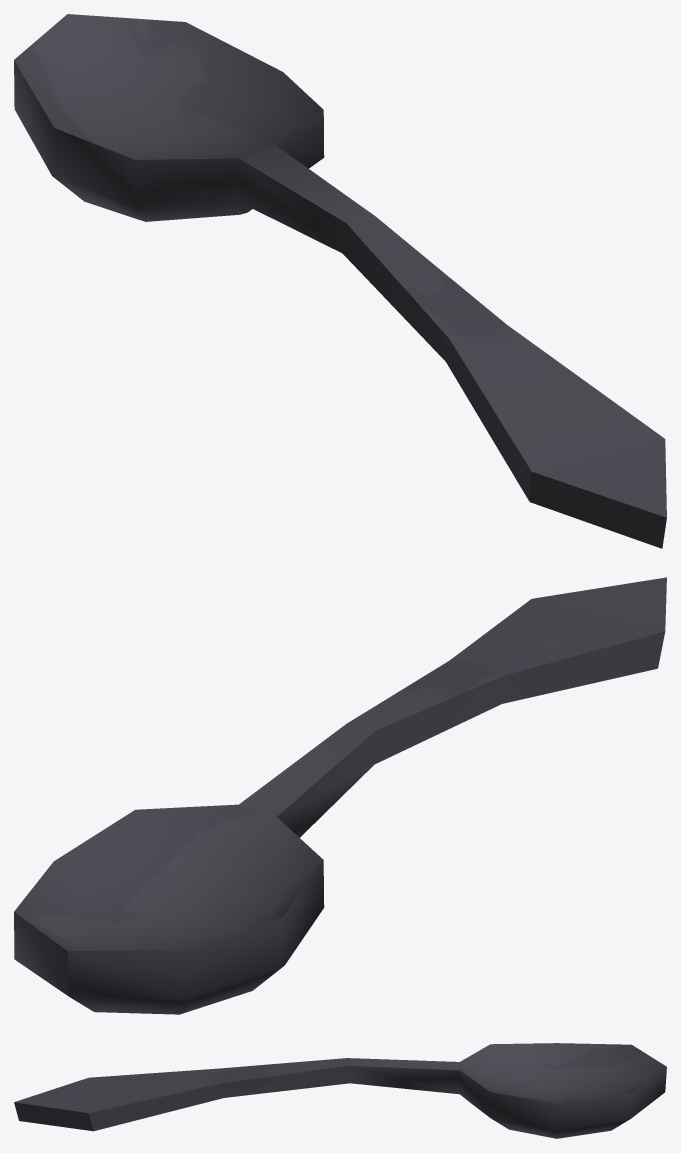
File: SM_PROP_spoon_city.fbx
3 views of the same model, one above another, from view 1: azimuth 30°, elevation 25°; view 2: azimuth 150°, elevation 25°; view 3: azimuth 270°, elevation 25° (orthographic). The views are drawn at different scales.
Parts seen in each view (by area): view 1: SM_PROP_spoon_city; view 2: SM_PROP_spoon_city; view 3: SM_PROP_spoon_city.
Part boxes in pixels (box(x1,y1,x2,y2)): SM_PROP_spoon_city: box(14, 14, 666, 548); SM_PROP_spoon_city: box(14, 577, 666, 1014); SM_PROP_spoon_city: box(14, 1043, 666, 1138).
Bounding box in the file's own units: 7.38 × 3.29 × 32.89.
